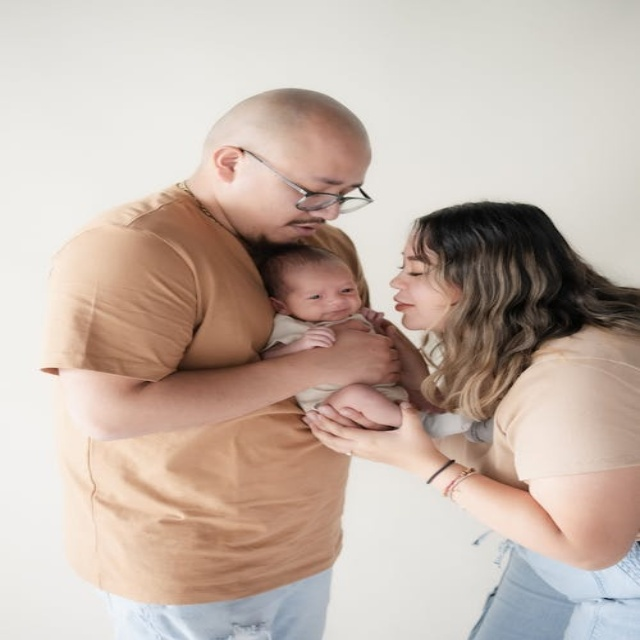Gafas: (236, 145, 375, 214)
Sin_gafas: (287, 280, 358, 303), (393, 249, 445, 278)
Sin_guantes: (302, 399, 433, 468), (274, 327, 403, 392), (300, 325, 339, 351)
Sin_mascara: (257, 218, 328, 240), (390, 291, 429, 327), (314, 303, 358, 320)
